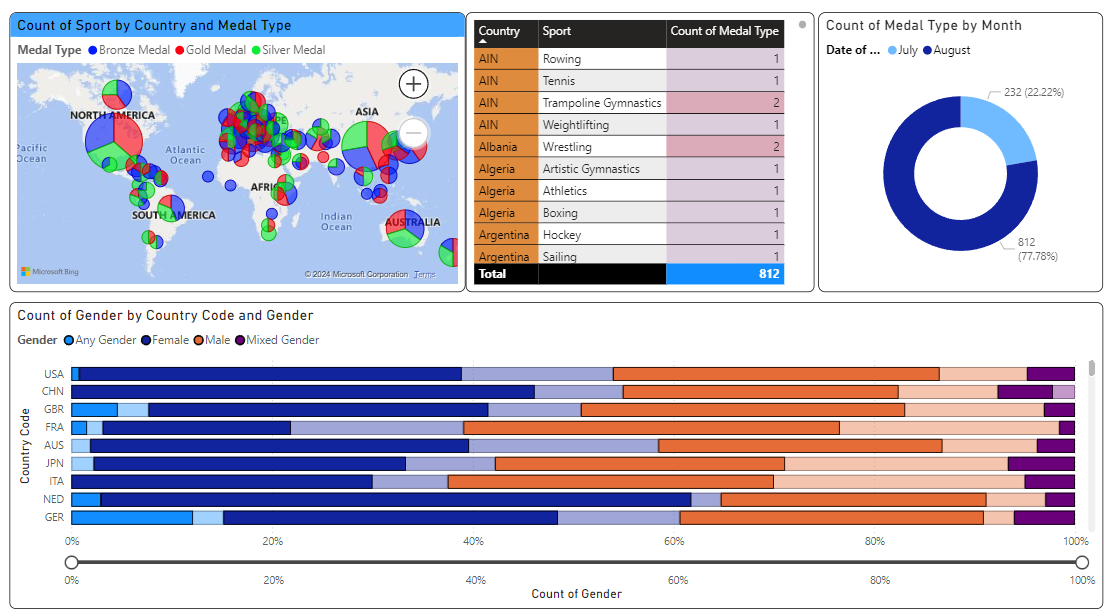

The page's visual inventory and layout, read from the dashboard file:
{"tool":"powerbi","page":{"name":"Page 1","canvas":[1280,720],"ordinal":0},"visuals":[{"type":"map","fields":{"Category":["Medals.Country"],"Size":["CountNonNull(Medals.Sport)"],"Series":["Medals.Medal Type"]},"box":[14.3,29.9,520.3,319.3],"z":0},{"type":"tableEx","fields":{"Values":["Medals.Country","Medals.Sport","Medals.Medal Type"]},"box":[534.5,29.9,397.7,319.3],"z":1},{"type":"hundredPercentStackedBarChart","fields":{"Category":["Medals.Country Code"],"Series":["Medals.Gender"],"Y":["CountNonNull(Medals.Gender)"]},"box":[14.3,360.6,1247.2,349.2],"z":2},{"type":"donutChart","fields":{"Category":["Medals.Date of Medal.Variation.Date Hierarchy.Month"],"Y":["CountNonNull(Medals.Medal Type)"]},"box":[936.5,29.9,325,319.3],"z":3}]}

Visuals, with their boxes in screenshot pixels (x1, y1, x2, y2), scaled from the page's 1280x720 canvas onto the 1120x616 screenshot:
map - Medals.Country x CountNonNull(Medals.Sport): [13,26,468,299]
tableEx - Medals.Country x Medals.Sport: [468,26,816,299]
hundredPercentStackedBarChart - Medals.Country Code x Medals.Gender: [13,309,1104,607]
donutChart - Medals.Date of Medal.Variation.Date Hierarchy.Month x CountNonNull(Medals.Medal Type): [819,26,1104,299]
